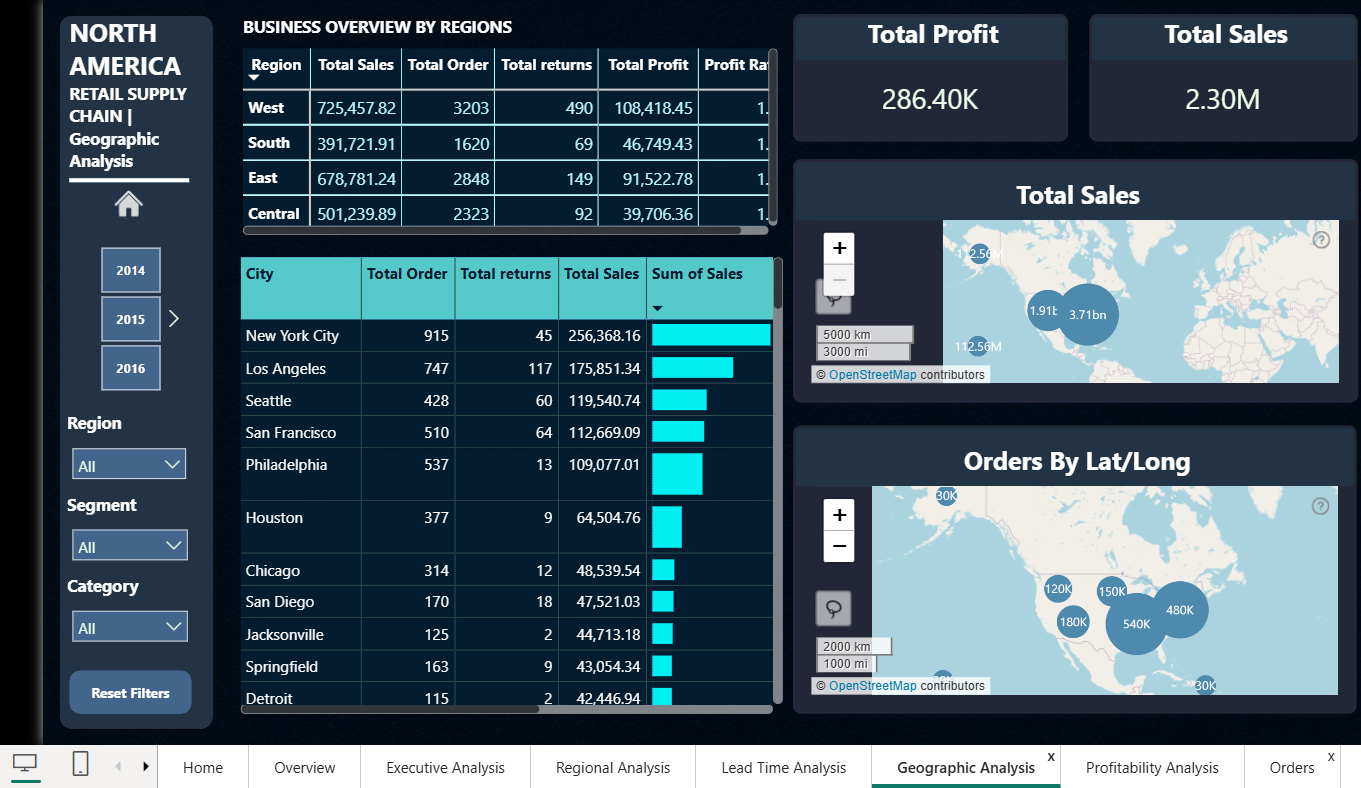

The page's visual inventory and layout, read from the dashboard file:
{"tool":"powerbi","page":{"name":"Geographic Analysis","canvas":[1280,720],"ordinal":5},"visuals":[{"type":"group","id":"g1","title":"Group 1","box":[1009.9,14.5,259.2,123.1],"z":0},{"type":"image","box":[54.3,167.7,59.1,60.3],"z":1000},{"type":"shape","box":[0,0,179.8,720.2],"z":2000},{"type":"card","title":"Total Sales","fields":{"Values":["delivery pie chart.Total Sales"]},"box":[1009.9,14.5,259.2,123.1],"z":2000,"group":"g1"},{"type":"shape","box":[25.3,121.9,115.8,106.2],"z":3000},{"type":"textbox","box":[25.3,15.7,141.2,152],"z":4000},{"type":"image","box":[53.1,167.7,59.1,60.3],"z":5000},{"type":"slicer","fields":{"Values":["Calendar_Table.Date.Variation.Date Hierarchy.Year"]},"box":[25.3,228,117,161.7],"z":6000},{"type":"slicer","title":"Region","fields":{"Values":["Retails_Order.Region"]},"box":[13.3,387.3,139.9,85.7],"z":7000},{"type":"slicer","title":"Segment","fields":{"Values":["DIM_Customer.Segment"]},"box":[13.3,465.7,141.2,85.7],"z":8000},{"type":"slicer","title":"Category","fields":{"Values":["DIM_Product.Category"]},"box":[13.3,544.1,141.2,85.7],"z":9000},{"type":"actionButton","box":[25.3,647.9,118.2,42.2],"z":10000},{"type":"ZoomChartsDrillDownMapPro6AFEEB10499543F282BD06EF315D5EAA","title":"Orders By Lat/Long","fields":{"longitude":["State_Coords.longitude"],"latitude":["State_Coords.latitude"],"name":["DIM_Product.Category"],"value":["DIM_Orders.Total Order"],"referenceValue":["Min(DIM_Customer.Customer Name)"],"radius":["Min(DIM_Orders.Order ID)"],"nodeReachRadius":["Sum(Fact_Retails_.Sales)"]},"box":[723.9,411.4,544.1,278.7],"z":11000},{"type":"card","title":"Total Profit","fields":{"Values":["Table.Total Profit"]},"box":[723.9,14.5,265.4,123.1],"z":12000},{"type":"ZoomChartsDrillDownMapPro6AFEEB10499543F282BD06EF315D5EAA","title":"Total Sales","fields":{"longitude":["State_Coords.longitude"],"latitude":["State_Coords.latitude"],"name":["Fact_Retails_.State"],"value":["delivery pie chart.Total Sales"]},"box":[723.9,154.4,545.3,235.3],"z":13000},{"type":"tableEx","fields":{"Values":["Retails_Order.City","DIM_Orders.Total Order","delivery pie chart.Total returns","delivery pie chart.Total Sales","Sum(Retails_Order.Sales)","Sum(Retails_Order.Profit)","Divide(Sum(Retails_Order.Profit), ScopedEval(Sum(Retails_Order.Profit), [Role.Columns]))","Sum(Fact_Retails_.Sales)","SparklineData(DIM_Orders.Total Order_[Calendar_Table.Date])"]},"box":[179.8,238.9,544.1,460.9],"z":14000},{"type":"pivotTable","title":"BUSINESS OVERVIEW BY REGIONS","fields":{"Rows":["Retails_Order.Region"],"Values":["Sum(Retails_Order.Sales)","DIM_Orders.Total Order","delivery pie chart.Total returns","Sum(Retails_Order.Profit)","delivery pie chart.Profit Ratio"]},"box":[193,15.7,516.4,212.3],"z":15000}]}

Visuals, with their boxes on the page's 1280x720 design canvas (x1, y1, x2, y2). These are canvas units, not pixel positions in the 1361x788 screenshot, which may show the page scaled, cropped or inside an application window:
"Group 1" group: Rect(1010, 14, 1269, 138)
image: Rect(54, 168, 113, 228)
shape: Rect(0, 0, 180, 720)
"Total Sales" card: Rect(1010, 14, 1269, 138)
shape: Rect(25, 122, 141, 228)
textbox: Rect(25, 16, 166, 168)
image: Rect(53, 168, 112, 228)
slicer - Calendar_Table.Date.Variation.Date Hierarchy.Year: Rect(25, 228, 142, 390)
"Region" slicer: Rect(13, 387, 153, 473)
"Segment" slicer: Rect(13, 466, 154, 551)
"Category" slicer: Rect(13, 544, 154, 630)
actionButton: Rect(25, 648, 144, 690)
"Orders By Lat/Long" ZoomChartsDrillDownMapPro6AFEEB10499543F282BD06EF315D5EAA: Rect(724, 411, 1268, 690)
"Total Profit" card: Rect(724, 14, 989, 138)
"Total Sales" ZoomChartsDrillDownMapPro6AFEEB10499543F282BD06EF315D5EAA: Rect(724, 154, 1269, 390)
tableEx - Retails_Order.City x DIM_Orders.Total Order: Rect(180, 239, 724, 700)
"BUSINESS OVERVIEW BY REGIONS" pivotTable: Rect(193, 16, 709, 228)
